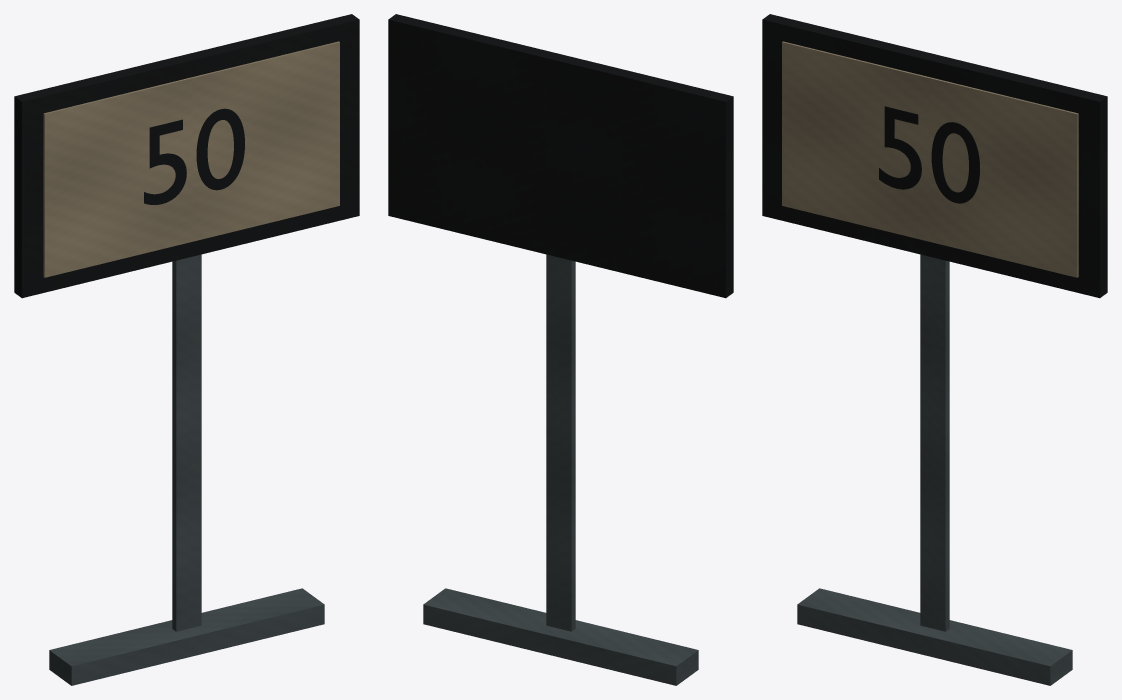
The model's file is braking-board-50.glb.
3 renders of one model, left to right at view 1: azimuth 30°, elevation 25°; view 2: azimuth 150°, elevation 25°; view 3: azimuth 330°, elevation 25°, orthographic.
Visible parts, largest first — view 1: braking-board-50-distance-board_2, braking-board-50-distance-board_1, braking-board-50-distance-board_0, distance-50; view 2: braking-board-50-distance-board_1, braking-board-50-distance-board_0; view 3: braking-board-50-distance-board_2, braking-board-50-distance-board_1, braking-board-50-distance-board_0, distance-50.
Part boxes in pixels (box(x1,y1,x2,y2)): braking-board-50-distance-board_2: box(43, 41, 339, 277); braking-board-50-distance-board_1: box(14, 14, 359, 298); braking-board-50-distance-board_0: box(49, 254, 324, 685); distance-50: box(144, 108, 244, 204); braking-board-50-distance-board_1: box(388, 14, 733, 298); braking-board-50-distance-board_0: box(423, 254, 698, 685); braking-board-50-distance-board_2: box(782, 41, 1078, 277); braking-board-50-distance-board_1: box(762, 14, 1107, 298); braking-board-50-distance-board_0: box(797, 254, 1072, 685); distance-50: box(879, 106, 979, 203).
Bounding box in the file's own units: 1.05 × 1.75 × 0.12.
3 materials, 3 textured.
